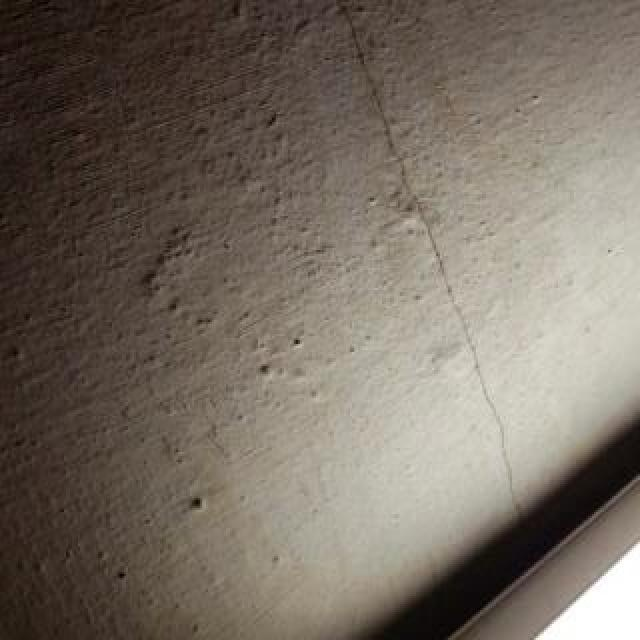fluorescent tube: (354, 0, 640, 640)
